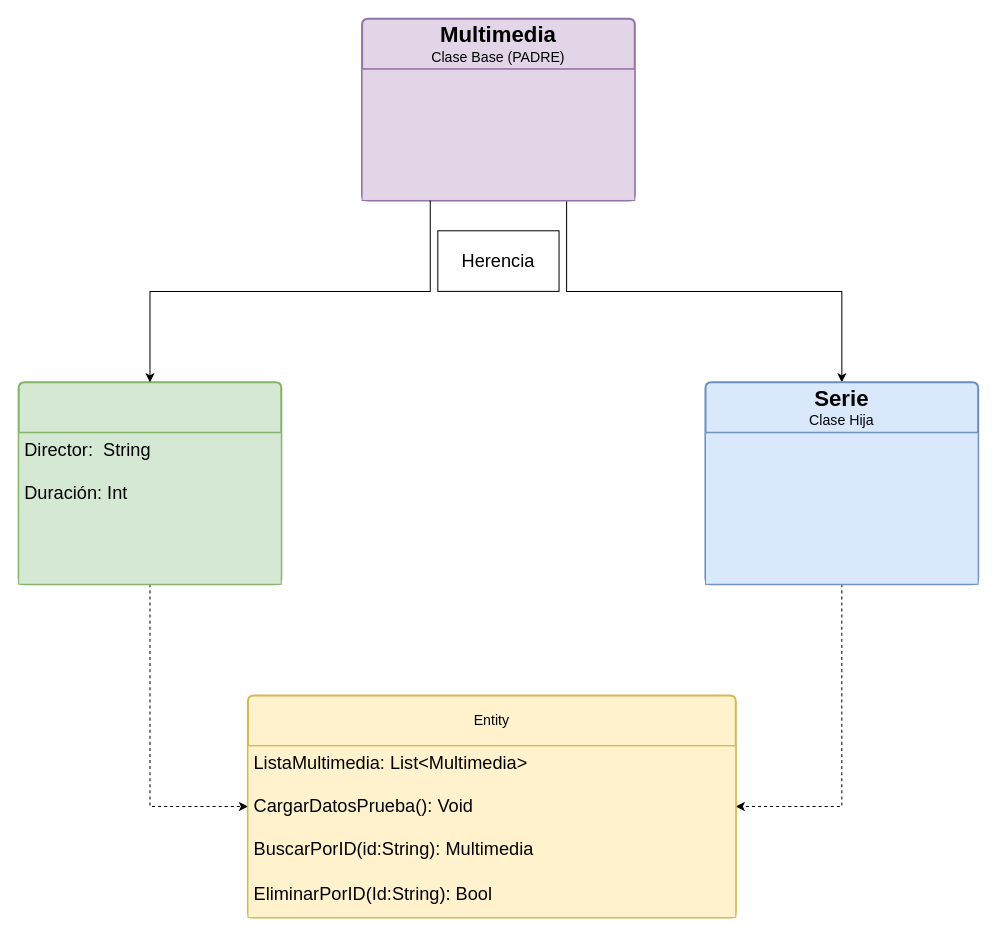
Image size: 996x937. Some labels were removed from this diagram. The shapes that lost their labels are listed below. From the top down, each one's box as (x1, y1, x2, y2) in pixels, then its label:
(361, 68, 635, 200): ID: String Titulo: String Ano: Int Genero: String
(17, 381, 282, 585): Pelicula Clase Hija
(704, 432, 978, 584): Temporadas: Int Capitulos: Int
